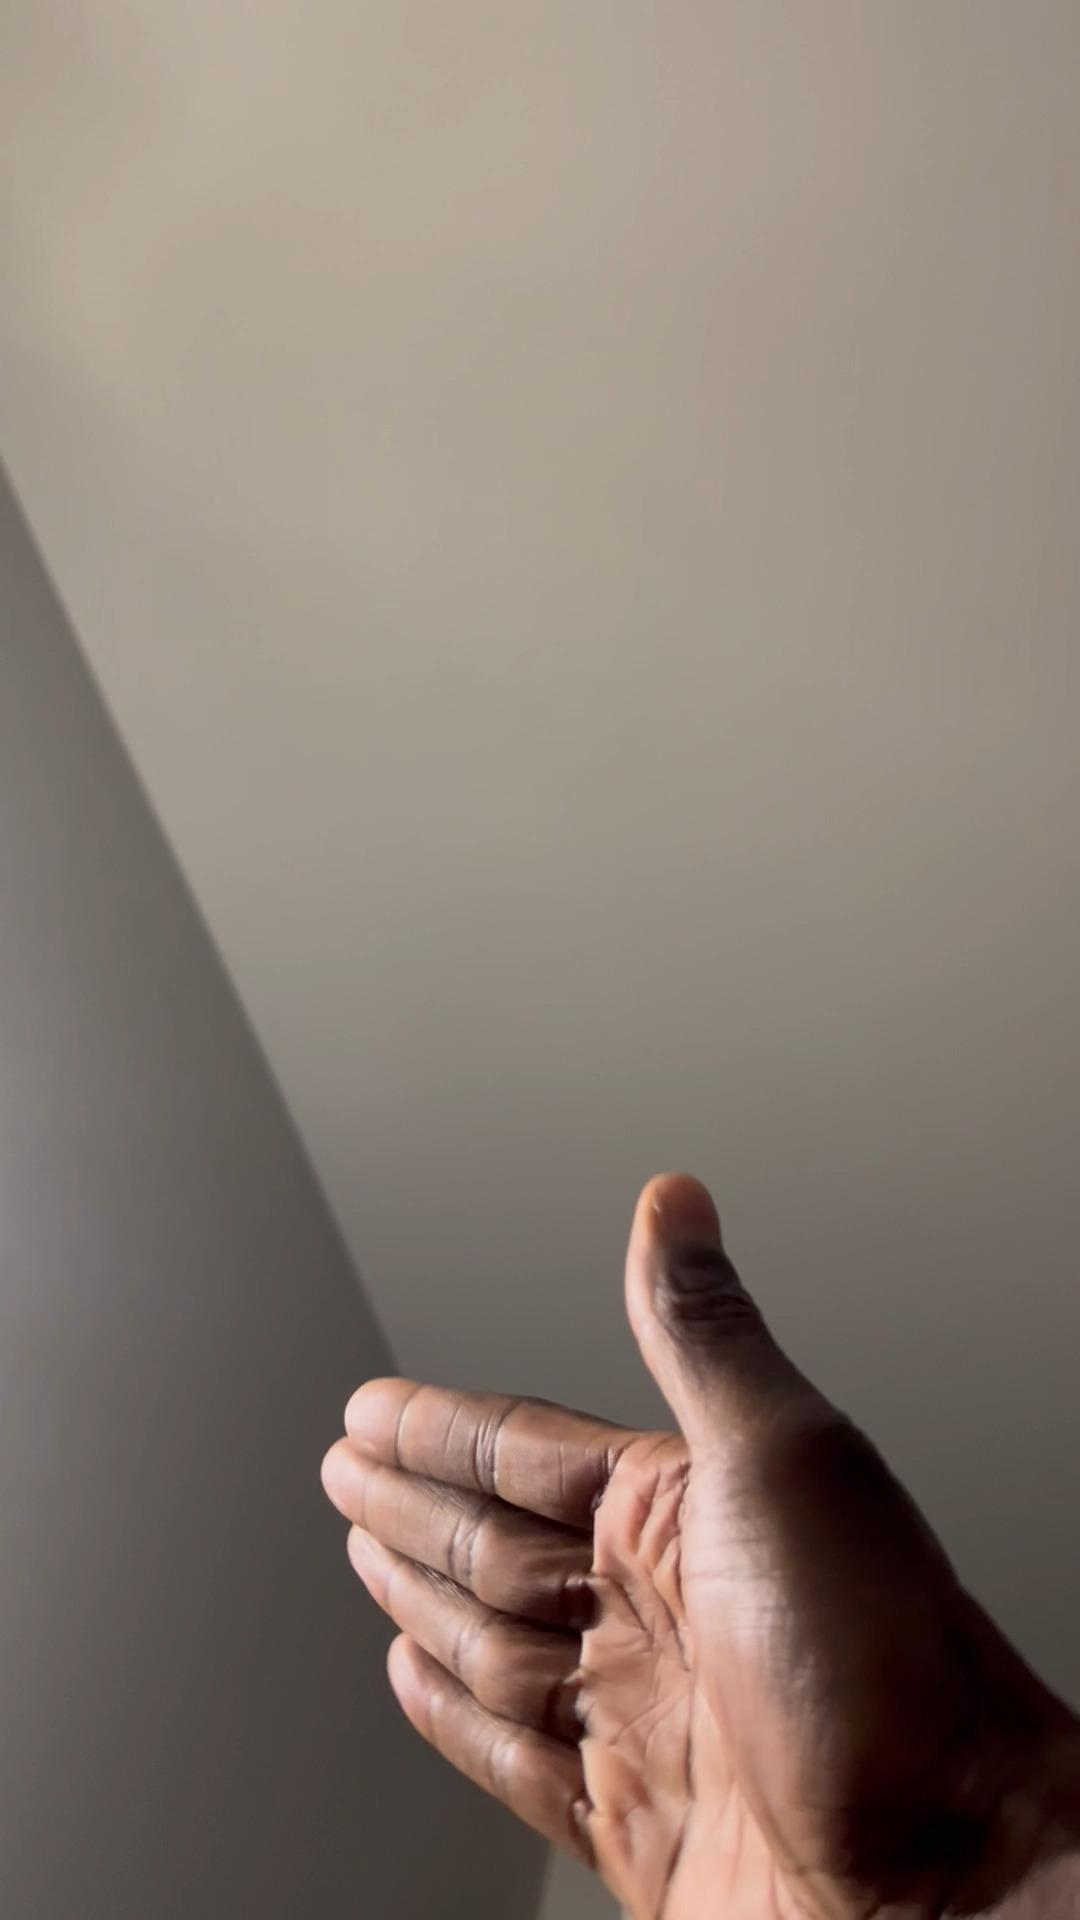Paper: (310, 1167, 1030, 1920)
